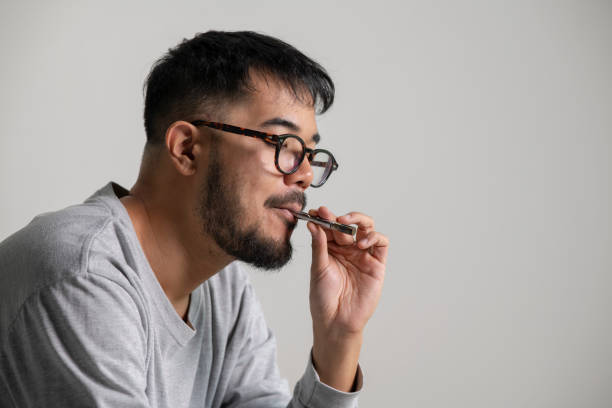cigarette: (290, 211, 357, 237)
